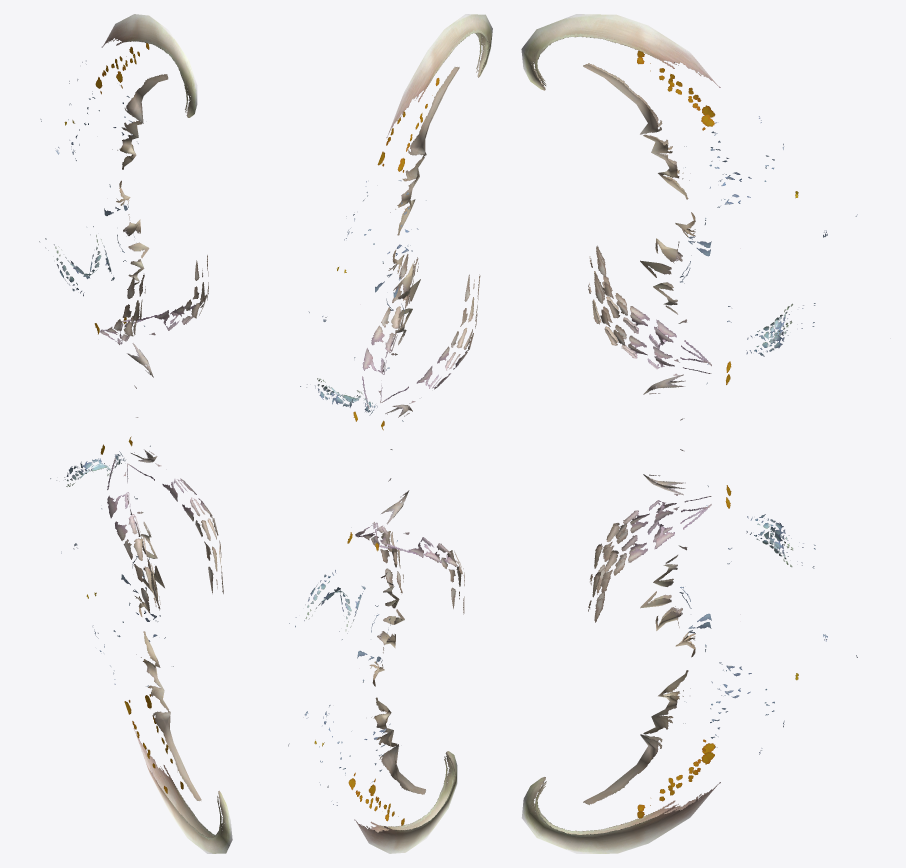
The picture shows the model from 3 angles, left to right: view 1: azimuth 30°, elevation 25°; view 2: azimuth 150°, elevation 25°; view 3: azimuth 270°, elevation 25°; orthographic projection.
Bounding box in the file's own units: 0.4047 × 3.21 × 1.31.
1 material, 1 textured.
